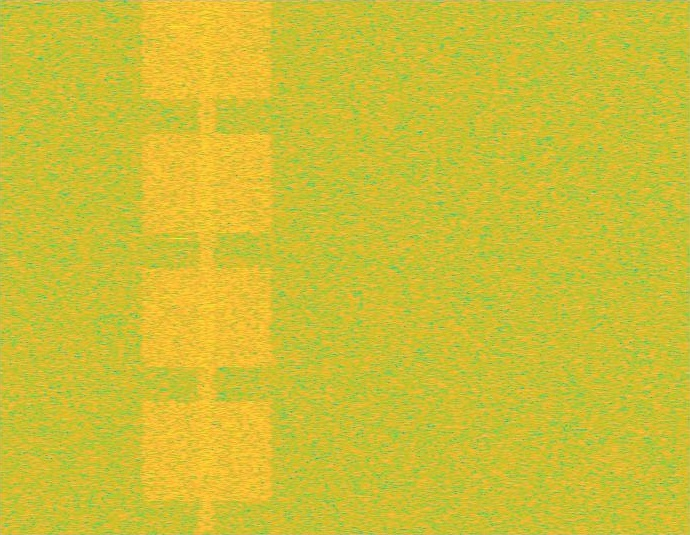5G: (138, 0, 276, 534)
DSSS: (198, 0, 216, 534)
Radar: (173, 0, 187, 534)
